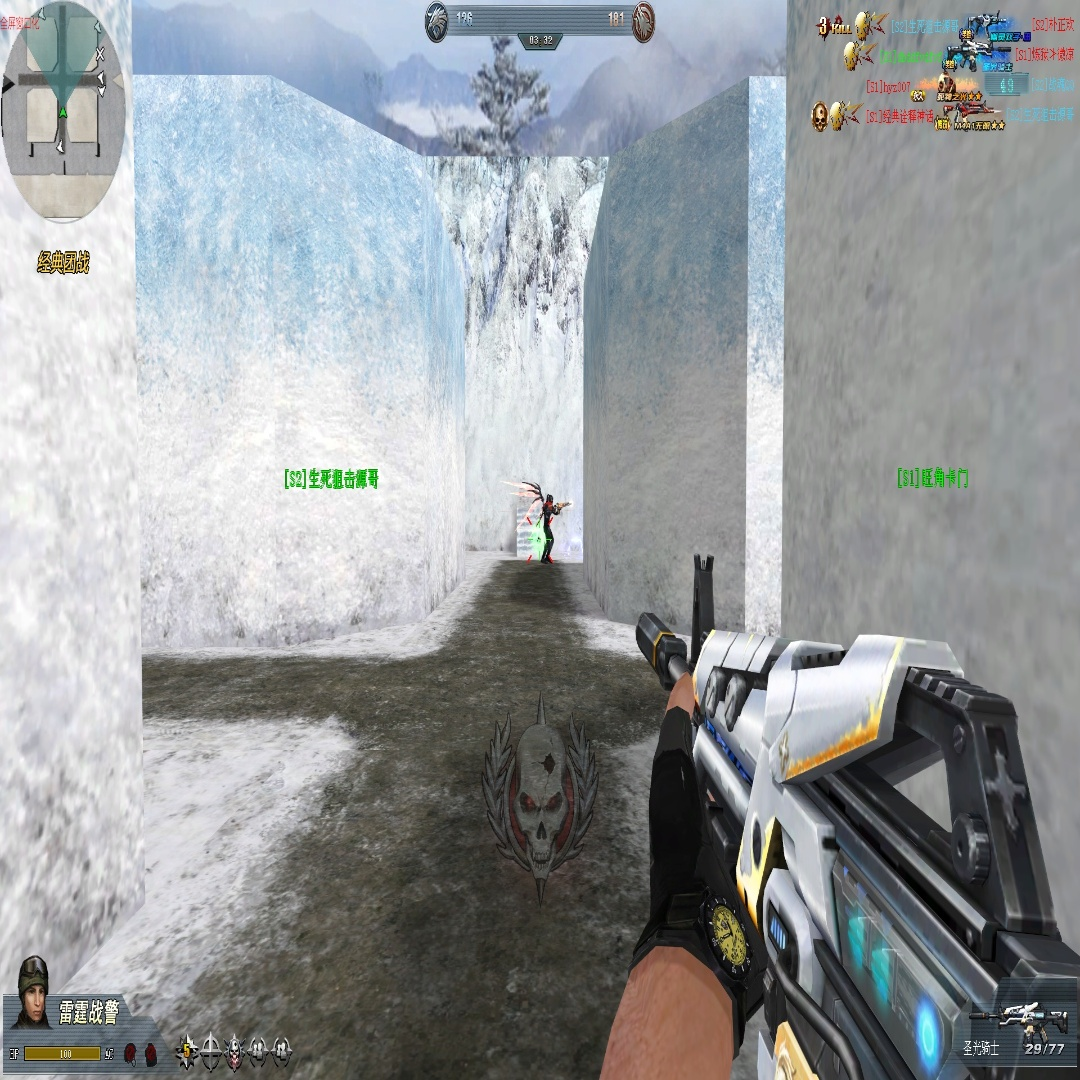head: (546, 493, 554, 505)
t: (541, 490, 557, 569)
